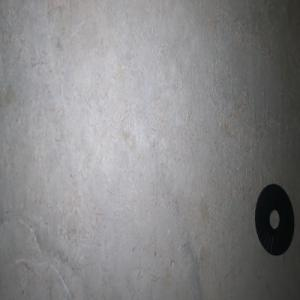Washer: (254, 183, 294, 255)
